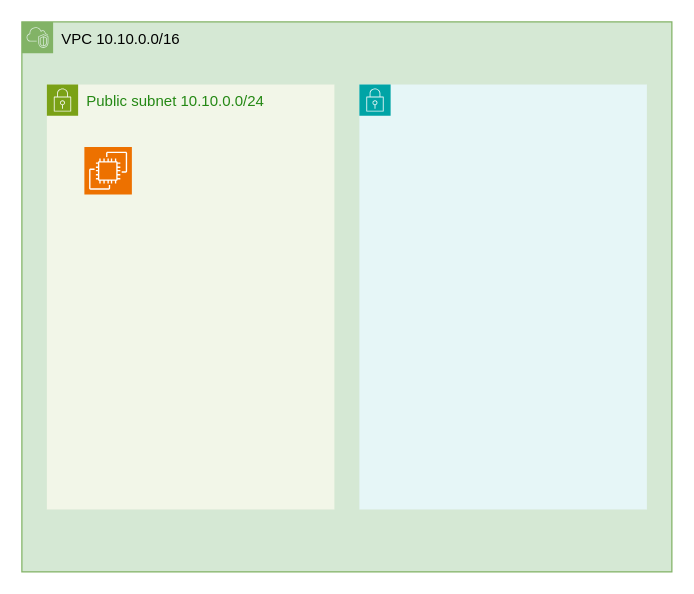
Some shapes in this 694 by 594 pixel diagram are drawn without their labels. Each missing label, with the box of its shape:
Private subnet 10.10.1.0/24: (358, 83, 647, 509)
Public Instance: (83, 146, 132, 194)
